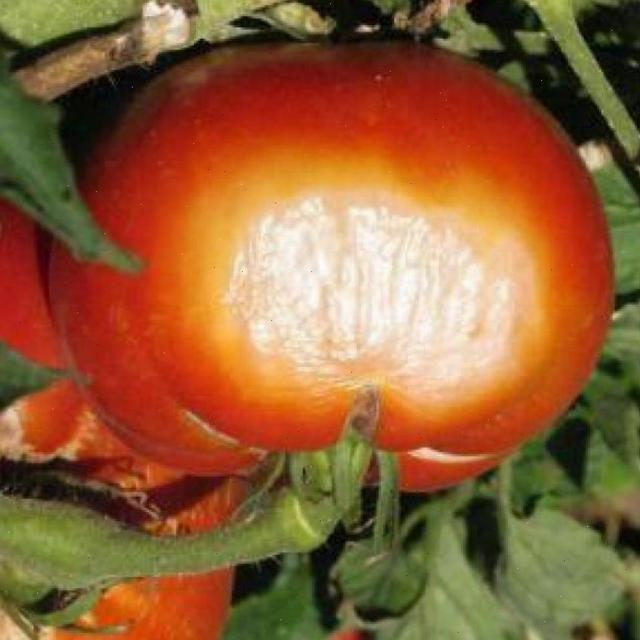Sunscald Fruit: (127, 117, 367, 280)
